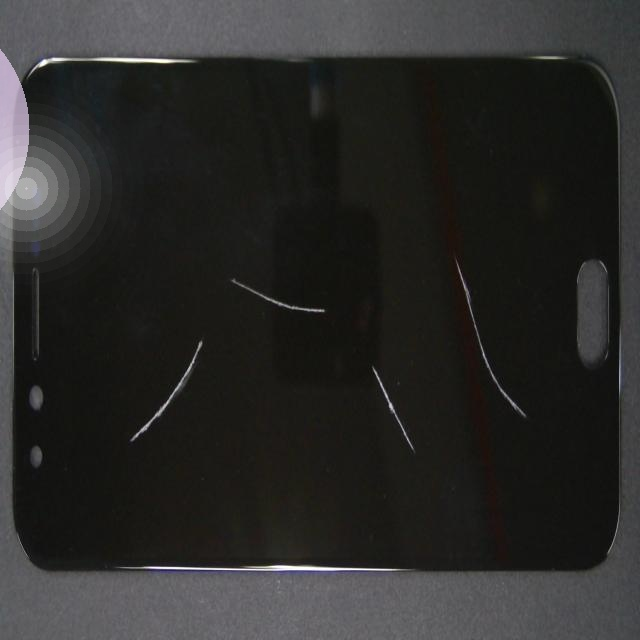scratch: (247, 281, 616, 619), (314, 297, 640, 536), (91, 153, 289, 475), (229, 162, 453, 423)
